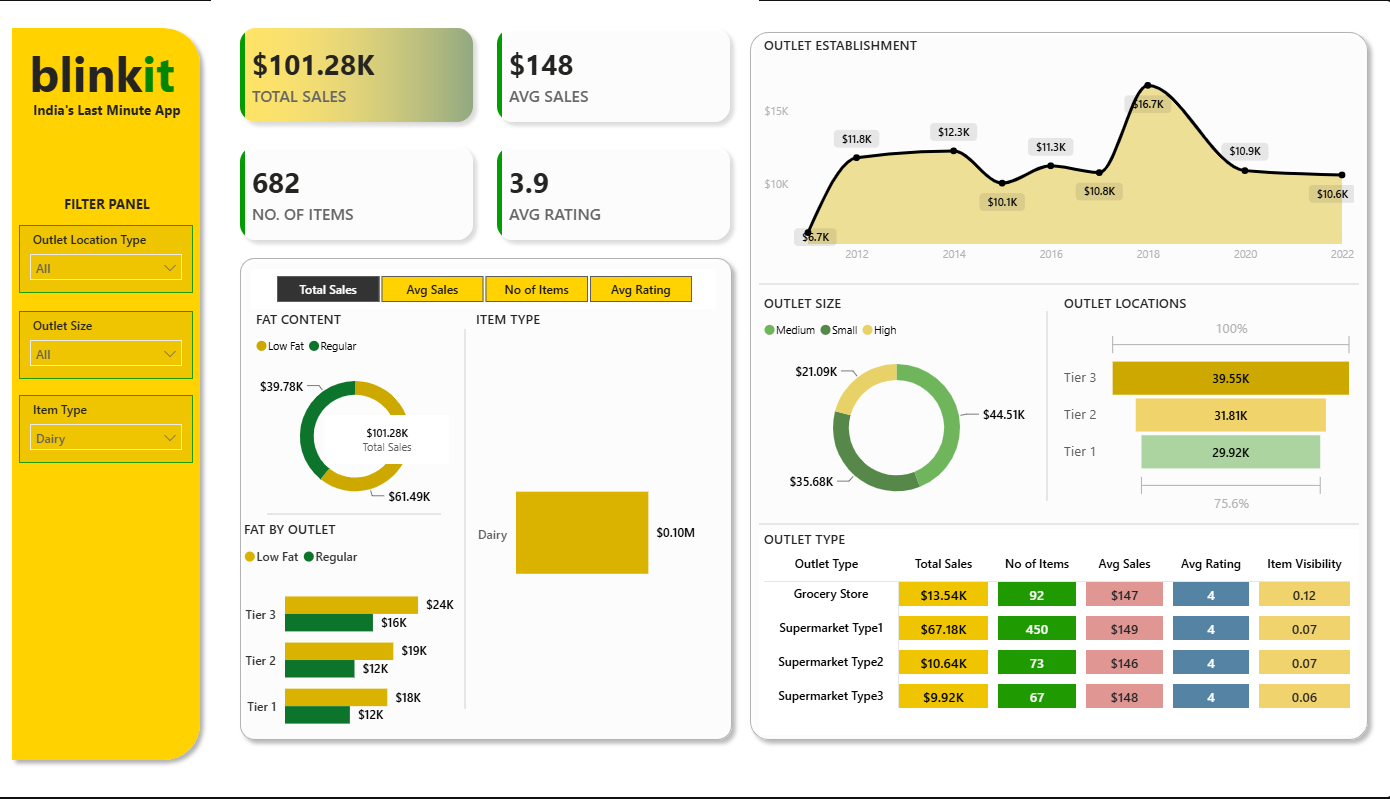

What the dashboard file says about the page in this screenshot:
{"tool":"powerbi","page":{"name":"Page 1","canvas":[1400,800],"ordinal":0},"visuals":[{"type":"shape","box":[10,20,206,750],"z":0},{"type":"textbox","box":[18,36,182,76],"z":1000},{"type":"textbox","box":[28,96,172,30],"z":2000},{"type":"cardVisual","fields":{"Data":["BlinkIT Grocery Data.Total Sales","BlinkIT Grocery Data.Avg Sales","BlinkIT Grocery Data.No of Items","BlinkIT Grocery Data.Avg Rating"]},"box":[218,0,548,270],"z":3000},{"type":"shape","box":[237.5,250,510,500],"z":4000},{"type":"donutChart","title":"FAT CONTENT","fields":{"Y":["BlinkIT Grocery Data.Total Sales"],"Category":["BlinkIT Grocery Data.Item Fat Content"]},"box":[258,310,208,210],"z":5000},{"type":"slicer","fields":{"Values":["Metrics.Metrics"]},"box":[258.3,270,465,40],"z":6000},{"type":"cardVisual","fields":{"Data":["BlinkIT Grocery Data.Total Sales"]},"box":[332,416,124,54],"z":7000},{"type":"clusteredBarChart","title":"FAT BY OUTLET","fields":{"Y":["BlinkIT Grocery Data.Total Sales"],"Category":["BlinkIT Grocery Data.Outlet Location Type"],"Series":["BlinkIT Grocery Data.Item Fat Content"]},"box":[246,520,220,230],"z":8000},{"type":"shape","box":[274,510,174,10],"z":9000},{"type":"shape","box":[466,330,12,380],"z":10000},{"type":"barChart","title":"ITEM TYPE","fields":{"Y":["BlinkIT Grocery Data.Total Sales"],"Category":["BlinkIT Grocery Data.Item Type"]},"box":[478,310,246,426],"z":11000},{"type":"shape","box":[748,24,636,726],"z":12000},{"type":"lineChart","title":"OUTLET ESTABLISHMENT","fields":{"Y":["BlinkIT Grocery Data.Total Sales"],"Category":["BlinkIT Grocery Data.Outlet Establishment Year"]},"box":[766,36,600,236],"z":13000},{"type":"shape","box":[766,280,600,10],"z":14000},{"type":"donutChart","title":"OUTLET SIZE","fields":{"Y":["BlinkIT Grocery Data.Total Sales"],"Category":["BlinkIT Grocery Data.Outlet Size"]},"box":[766,294,275,225],"z":15000},{"type":"shape","box":[1042,312,24,190],"z":16000},{"type":"funnel","title":"OUTLET LOCATIONS","fields":{"Y":["Sum(BlinkIT Grocery Data.Sales)"],"Category":["BlinkIT Grocery Data.Outlet Location Type"]},"box":[1066,294,300,226],"z":17000},{"type":"shape","box":[766,520,600,10],"z":18000},{"type":"pivotTable","title":"OUTLET TYPE","fields":{"Rows":["BlinkIT Grocery Data.Outlet Type"],"Values":["BlinkIT Grocery Data.Total Sales","BlinkIT Grocery Data.No of Items","BlinkIT Grocery Data.Avg Sales","BlinkIT Grocery Data.Avg Rating","Avg(BlinkIT Grocery Data.Item Visibility)"]},"box":[766,530,600,206],"z":19000},{"type":"slicer","fields":{"Values":["BlinkIT Grocery Data.Outlet Location Type"]},"box":[26,226,174,68],"z":20000},{"type":"slicer","fields":{"Values":["BlinkIT Grocery Data.Outlet Size"]},"box":[26,312,174,68],"z":21000},{"type":"slicer","fields":{"Values":["BlinkIT Grocery Data.Item Type"]},"box":[26,396,174,68],"z":22000},{"type":"textbox","box":[56,190,116,36],"z":22001}]}

Visuals, with their boxes in screenshot pixels (x1, y1, x2, y2), scaled from the page's 1400x800 canvas onto the 1390x799 screenshot:
shape: (left=10, top=20, right=214, bottom=769)
textbox: (left=18, top=36, right=199, bottom=112)
textbox: (left=28, top=96, right=199, bottom=126)
cardVisual - BlinkIT Grocery Data.Total Sales x BlinkIT Grocery Data.Avg Sales: (left=216, top=0, right=761, bottom=270)
shape: (left=236, top=250, right=742, bottom=749)
"FAT CONTENT" donutChart: (left=256, top=310, right=463, bottom=519)
slicer - Metrics.Metrics: (left=256, top=270, right=718, bottom=310)
cardVisual - BlinkIT Grocery Data.Total Sales: (left=330, top=415, right=453, bottom=469)
"FAT BY OUTLET" clusteredBarChart: (left=244, top=519, right=463, bottom=749)
shape: (left=272, top=509, right=445, bottom=519)
shape: (left=463, top=330, right=475, bottom=709)
"ITEM TYPE" barChart: (left=475, top=310, right=719, bottom=735)
shape: (left=743, top=24, right=1374, bottom=749)
"OUTLET ESTABLISHMENT" lineChart: (left=761, top=36, right=1356, bottom=272)
shape: (left=761, top=280, right=1356, bottom=290)
"OUTLET SIZE" donutChart: (left=761, top=294, right=1034, bottom=518)
shape: (left=1035, top=312, right=1058, bottom=501)
"OUTLET LOCATIONS" funnel: (left=1058, top=294, right=1356, bottom=519)
shape: (left=761, top=519, right=1356, bottom=529)
"OUTLET TYPE" pivotTable: (left=761, top=529, right=1356, bottom=735)
slicer - BlinkIT Grocery Data.Outlet Location Type: (left=26, top=226, right=199, bottom=294)
slicer - BlinkIT Grocery Data.Outlet Size: (left=26, top=312, right=199, bottom=380)
slicer - BlinkIT Grocery Data.Item Type: (left=26, top=396, right=199, bottom=463)
textbox: (left=56, top=190, right=171, bottom=226)
